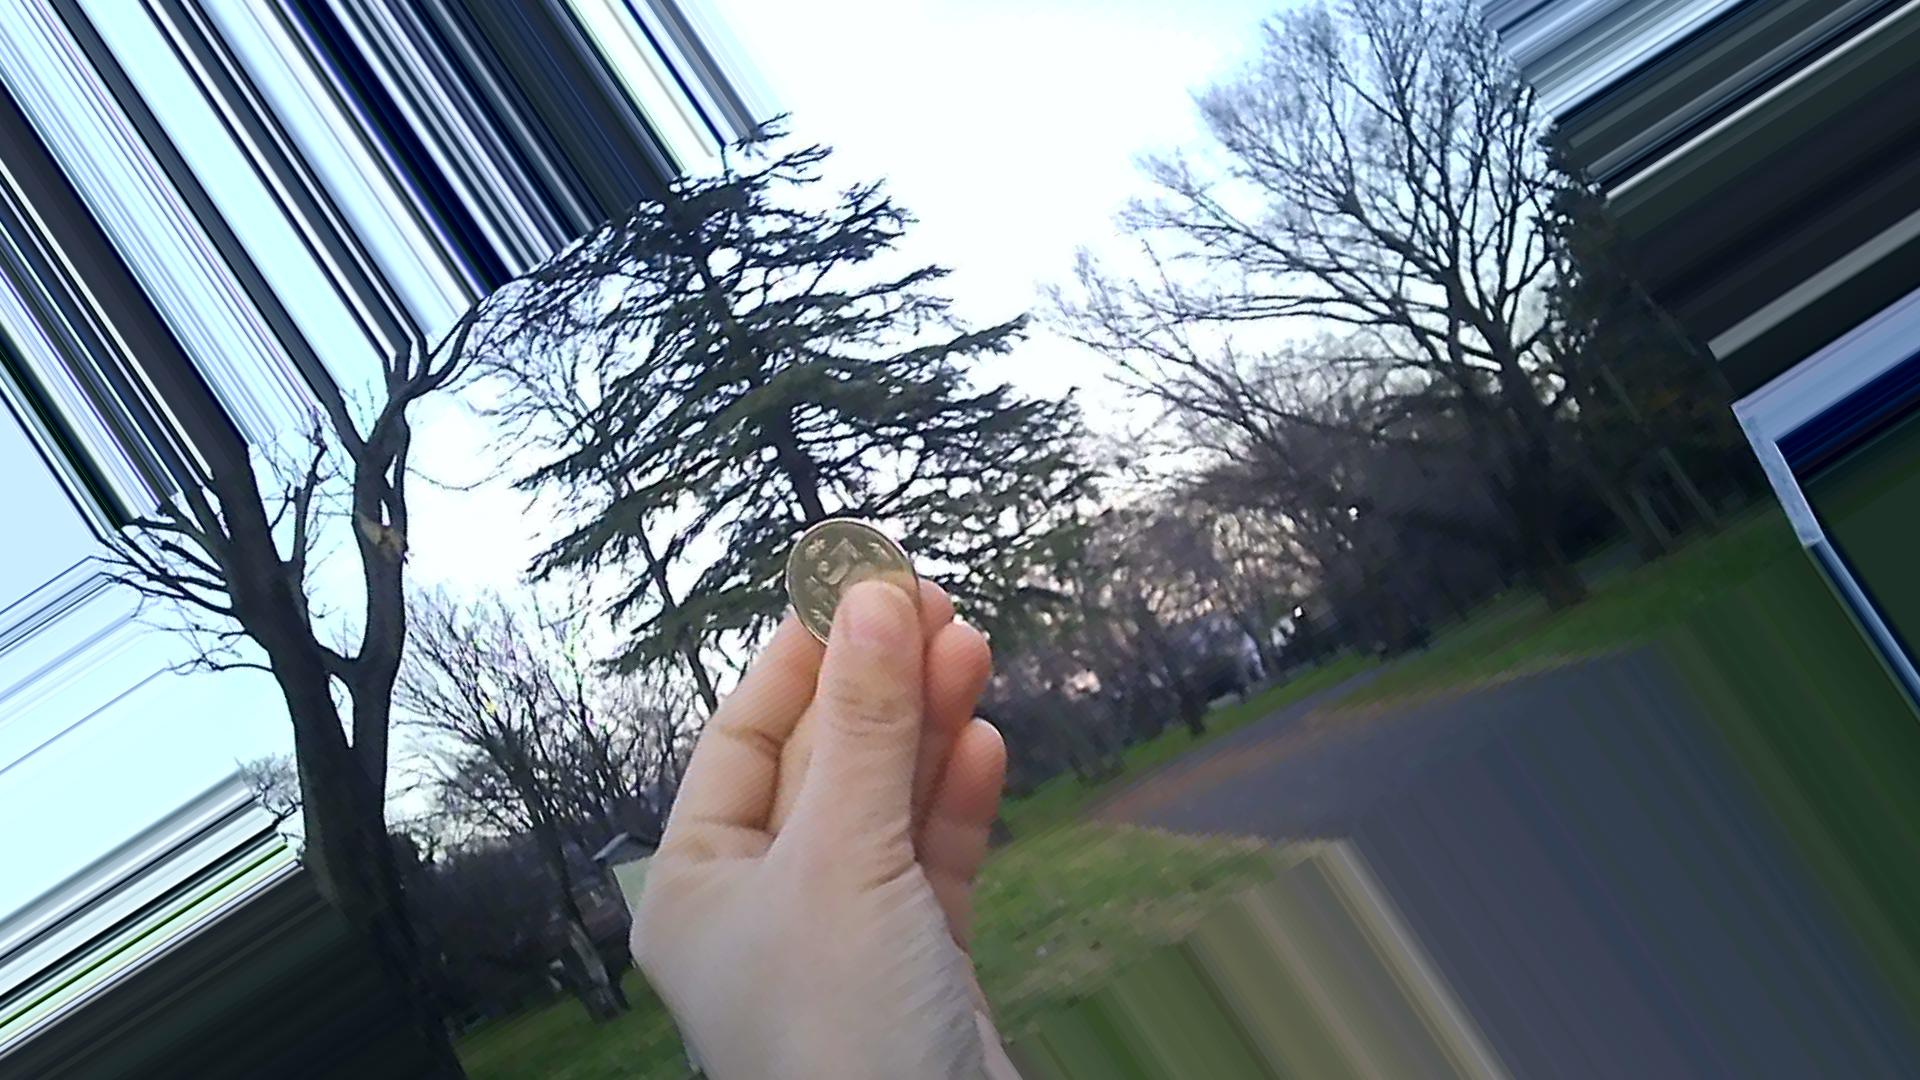500 Yen: (781, 512, 923, 636)
